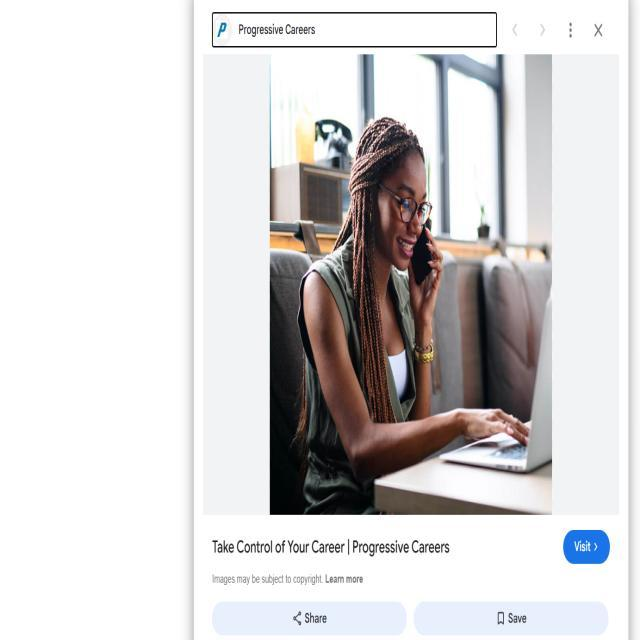face_no_mask: (371, 151, 427, 271)
